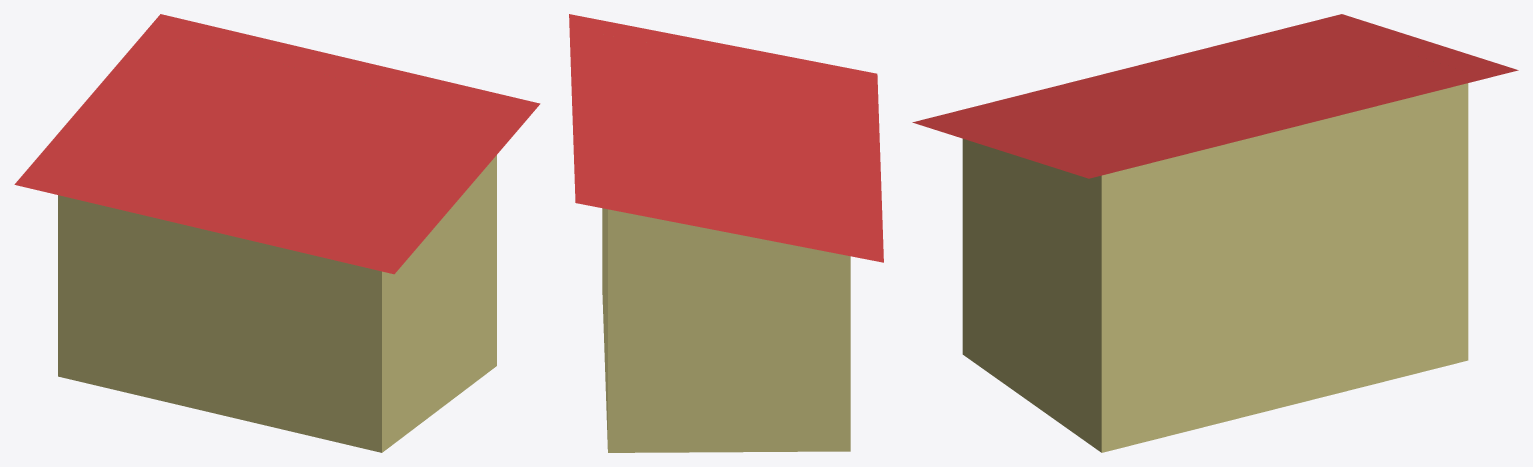
3 views of the same model, side by side, from view 1: azimuth 30°, elevation 25°; view 2: azimuth 150°, elevation 25°; view 3: azimuth 270°, elevation 25° (orthographic). The views are drawn at different scales.
Bounding box in the file's own units: 11.25 × 12.35 × 6.64.
